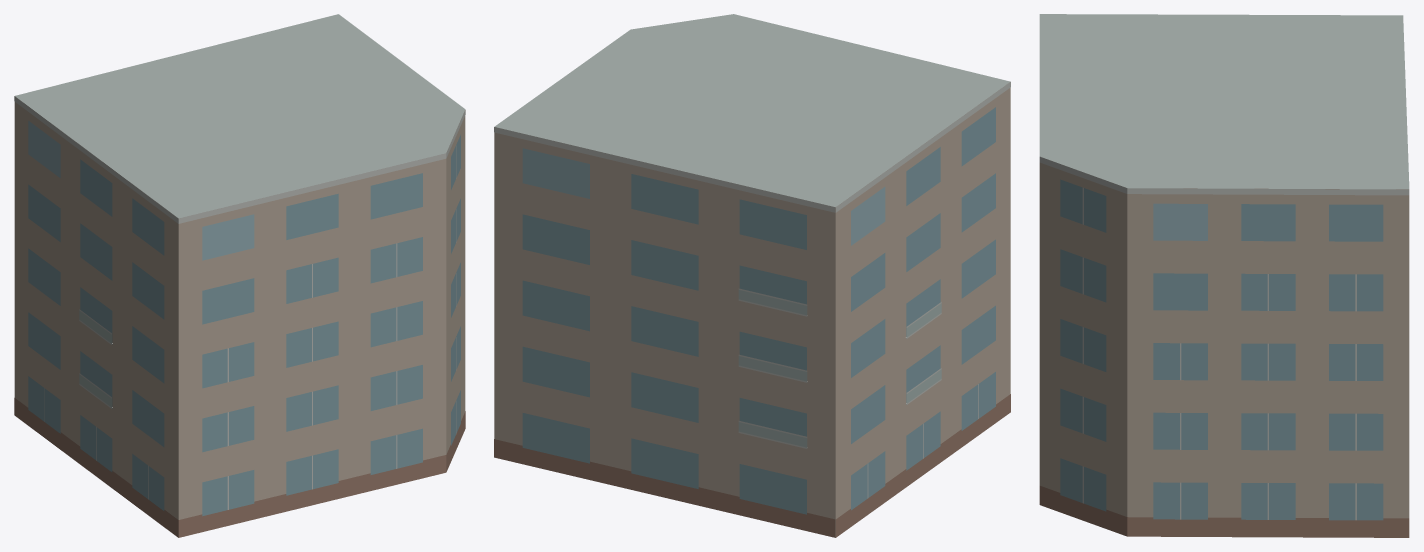
The model's file is survey-upis-32834485.glb.
3 renders of one model, left to right at view 1: azimuth 30°, elevation 25°; view 2: azimuth 150°, elevation 25°; view 3: azimuth 270°, elevation 25°, orthographic. The views are drawn at different scales.
Visible parts, largest first — view 1: survey-upis-32834485.tmp; view 2: survey-upis-32834485.tmp; view 3: survey-upis-32834485.tmp.
Part boxes in pixels (x1=…): survey-upis-32834485.tmp: x1=14, y1=14, x2=465, y2=537; survey-upis-32834485.tmp: x1=494, y1=14, x2=1010, y2=537; survey-upis-32834485.tmp: x1=1039, y1=14, x2=1409, y2=537.
Bounding box in the file's own units: 15.42 × 14.27 × 13.74.
